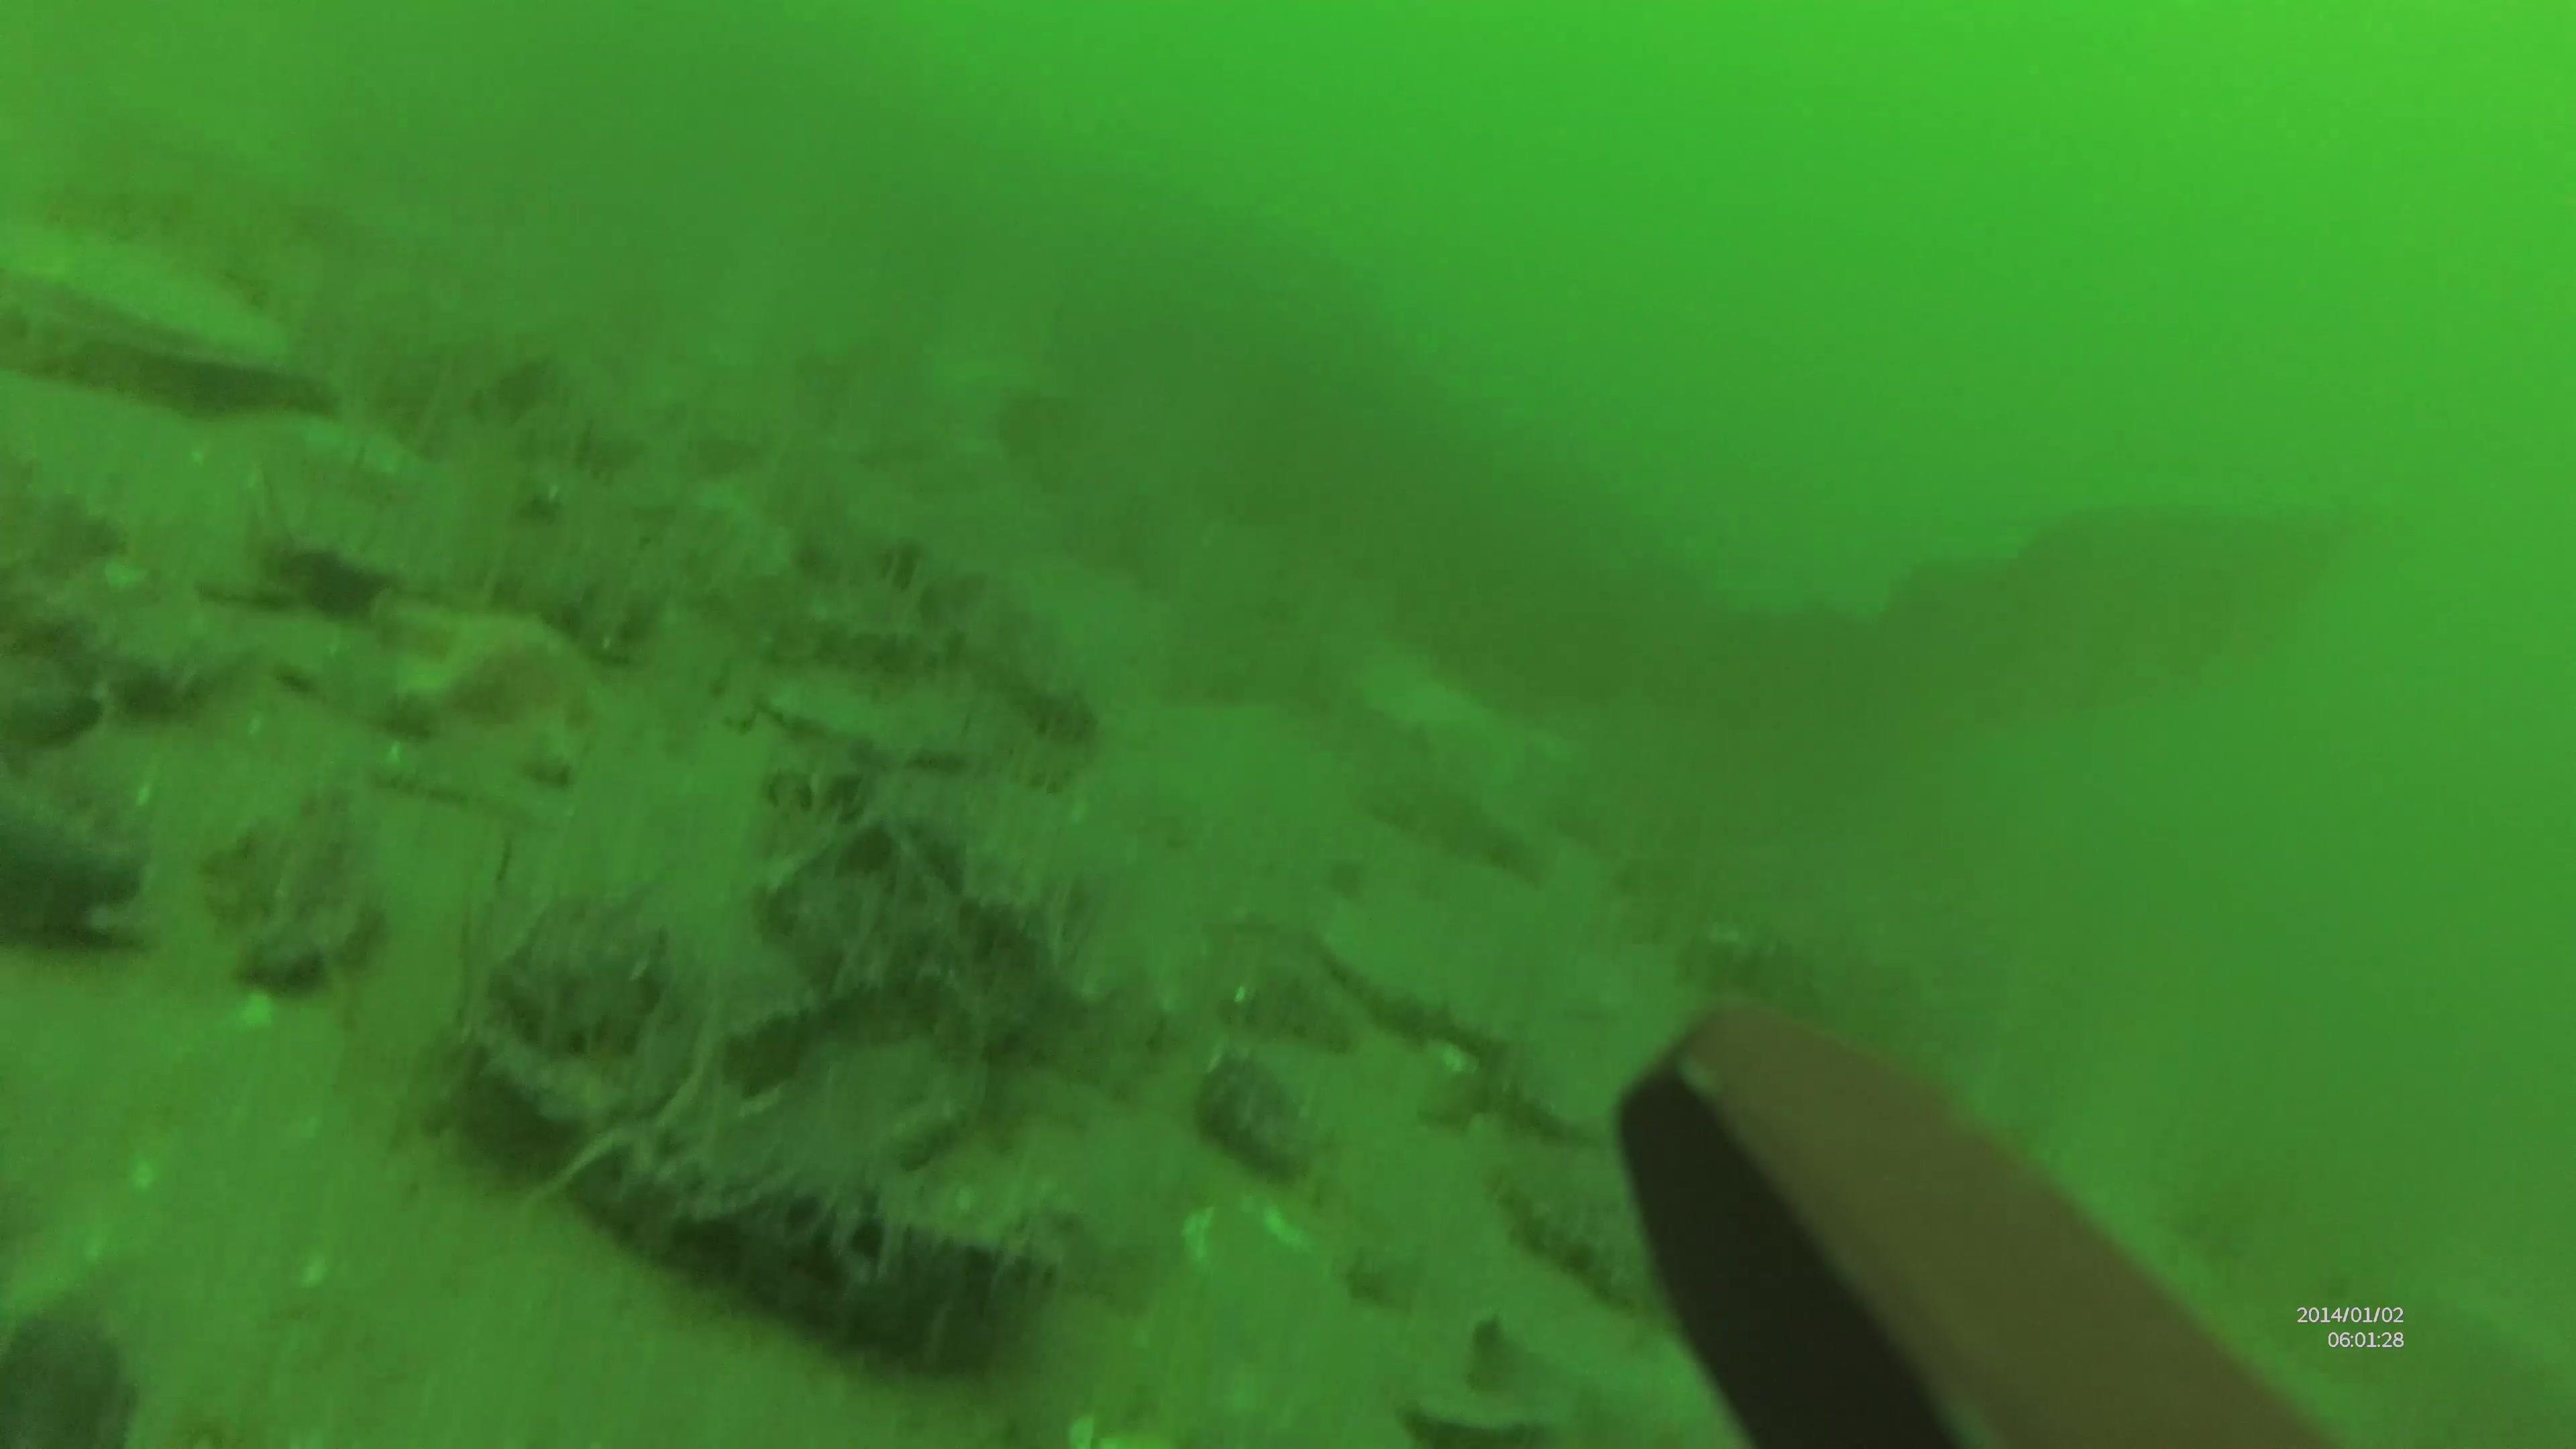scallop: (0, 211, 303, 405)
starfish: (370, 573, 614, 768)
